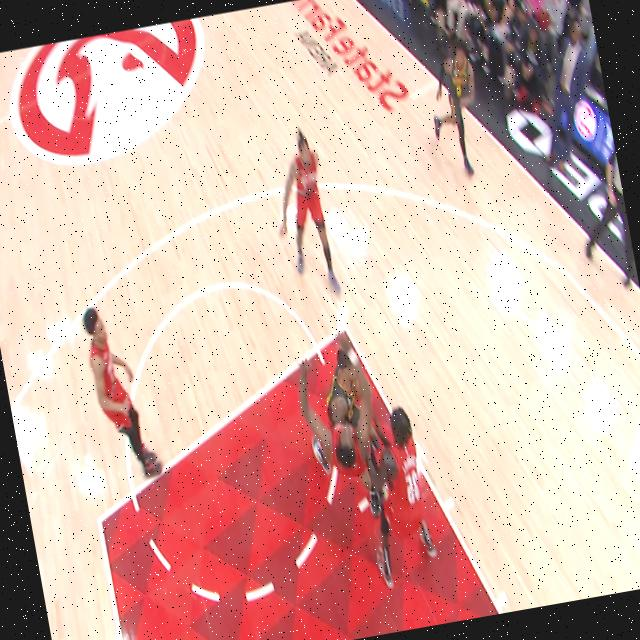Foul: (301, 330, 386, 483)
